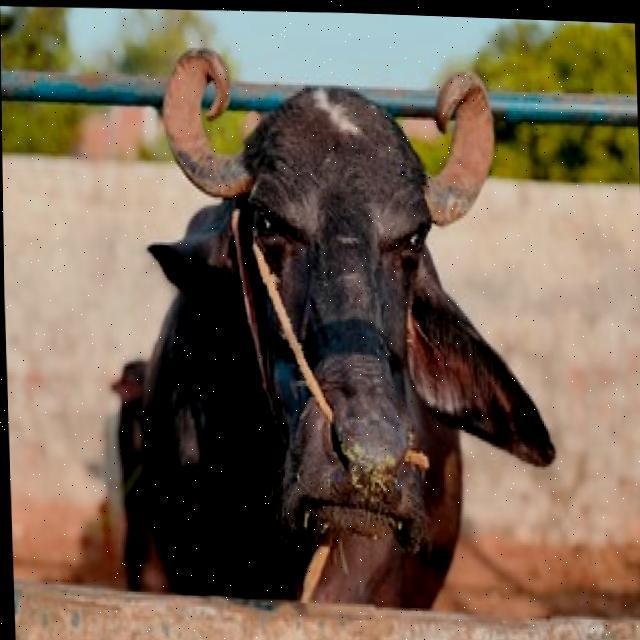Buffalo: (105, 32, 562, 621)
